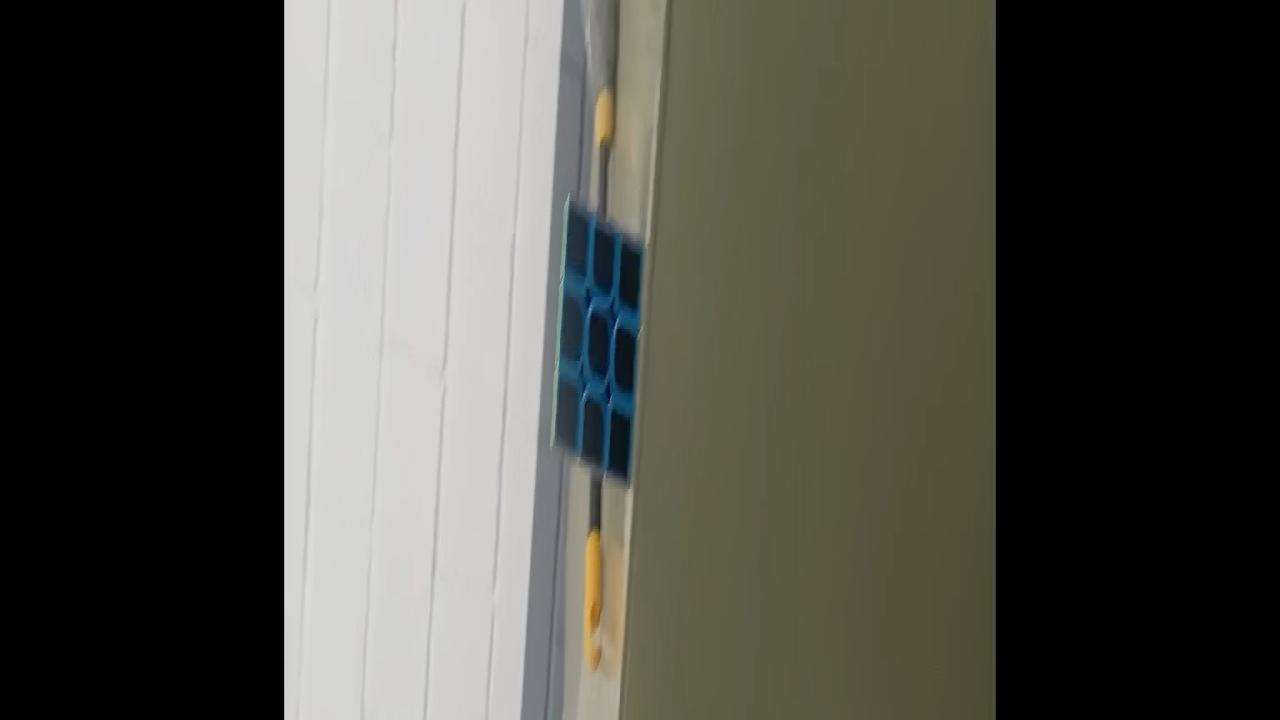Cube: (548, 192, 644, 490)
